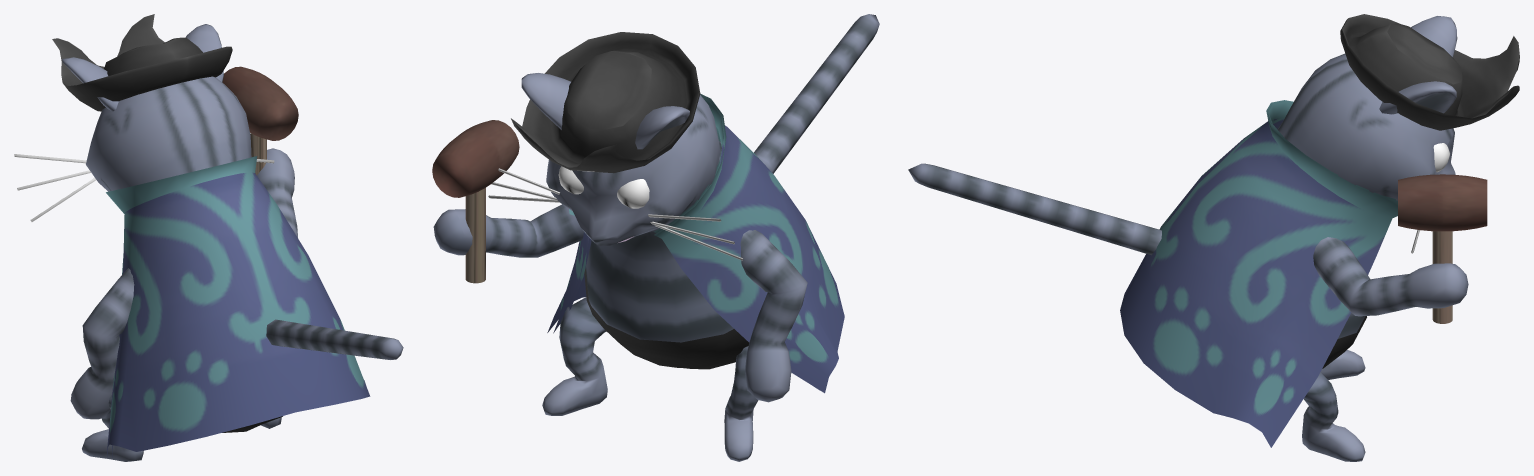
File: neko_fix_04.fbx
The picture shows the model from 3 angles, left to right: view 1: azimuth 30°, elevation 25°; view 2: azimuth 150°, elevation 25°; view 3: azimuth 270°, elevation 25°; orthographic projection. The views are drawn at different scales.
Parts seen in each view (by area): view 1: F_04; view 2: F_04; view 3: F_04.
Boxes of the visible parts, x1,y1,x2,y2 form: F_04: (14, 14, 403, 461); F_04: (432, 14, 879, 461); F_04: (908, 14, 1519, 461).
Bounding box in the file's own units: 1.16 × 1.5 × 2.15.
1 material, 1 textured.
